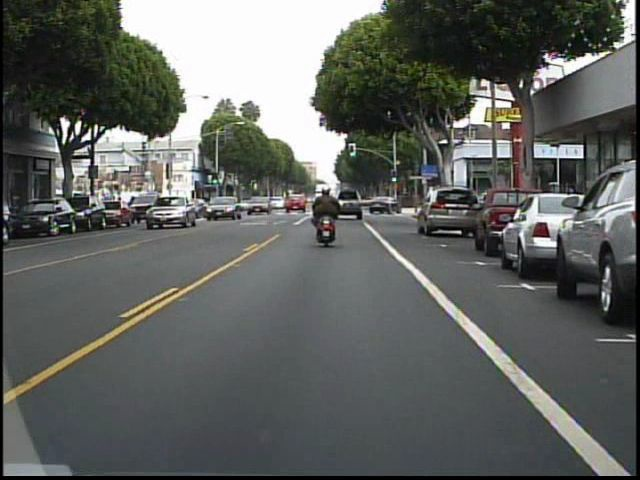person: (308, 180, 344, 246)
